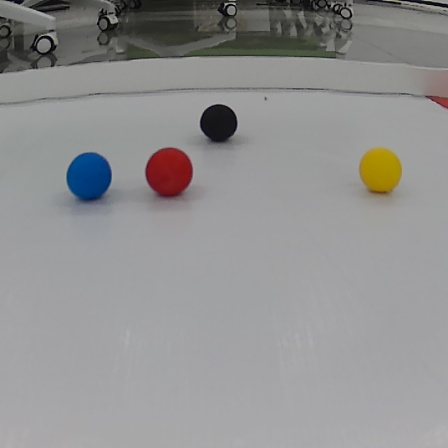black: (196, 101, 245, 148)
blue: (59, 149, 117, 200)
red: (144, 145, 196, 200)
yellow: (359, 148, 404, 195)
